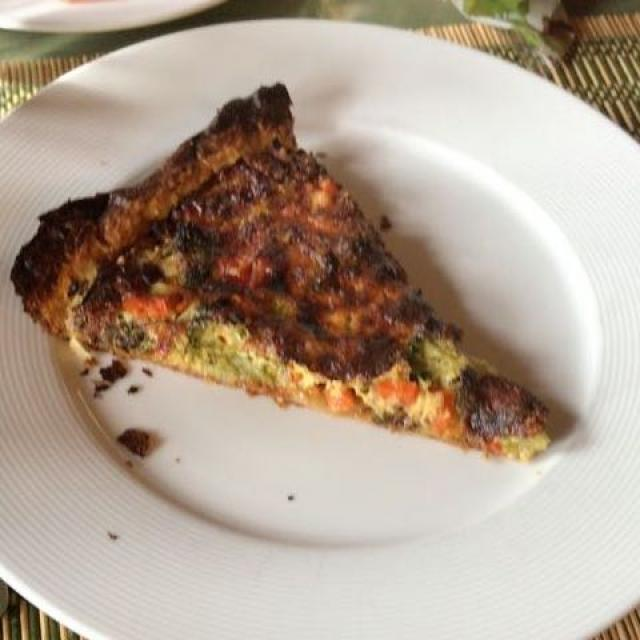pizza: (19, 97, 547, 453)
vegetables-stuffed-pie: (19, 97, 547, 453)
